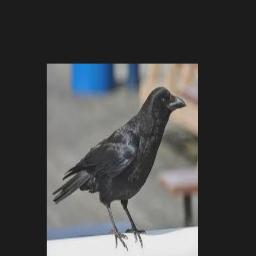Crow: (53, 85, 187, 247)
